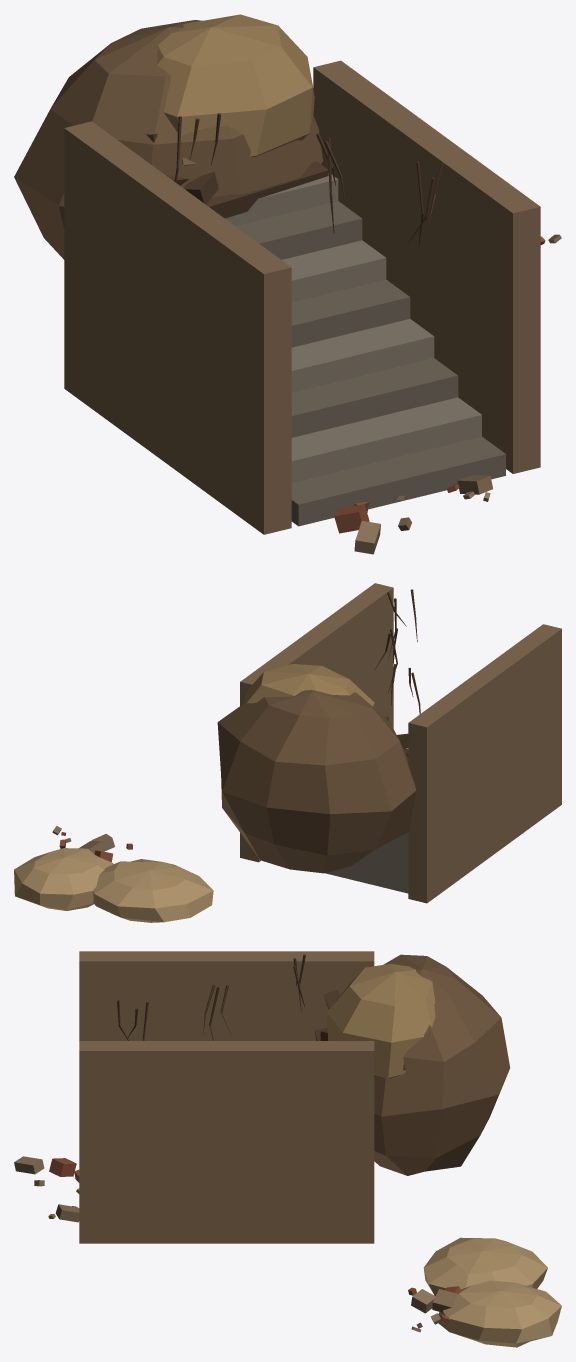
The model's file is TownRoom_stair.glb.
3 views of the same model, one above another, from view 1: azimuth 30°, elevation 25°; view 2: azimuth 150°, elevation 25°; view 3: azimuth 270°, elevation 25° (orthographic). The views are drawn at different scales.
Visible parts, largest first — view 1: TownRoom_stair.001; view 2: TownRoom_stair.001; view 3: TownRoom_stair.001.
Boxes of the visible parts, left/top/right/bottom form: TownRoom_stair.001: left=14, top=14, right=561, bottom=554; TownRoom_stair.001: left=14, top=583, right=561, bottom=922; TownRoom_stair.001: left=14, top=951, right=561, bottom=1347.
Bounding box in the file's own units: 7.57 × 4.89 × 9.29.
